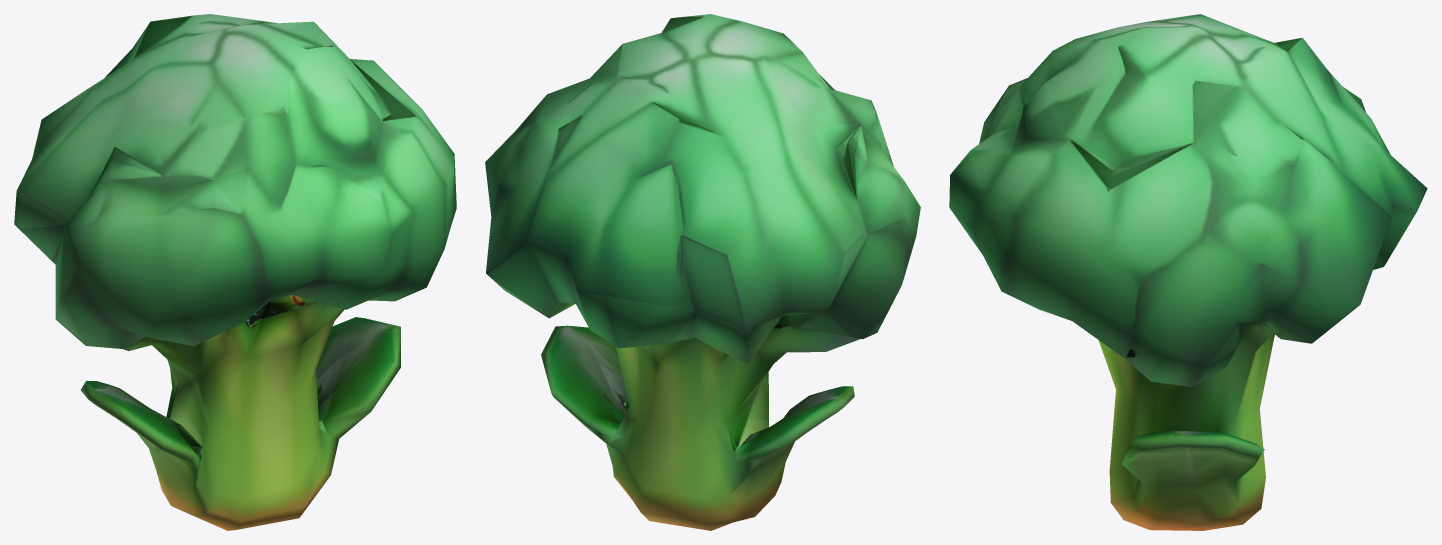
Rendered from image_png_1121132138_texture.fbx.
3 renders of one model, left to right at view 1: azimuth 30°, elevation 25°; view 2: azimuth 150°, elevation 25°; view 3: azimuth 270°, elevation 25°, orthographic. The views are drawn at different scales.
Parts seen in each view (by area): view 1: Mesh1.0; view 2: Mesh1.0; view 3: Mesh1.0.
Boxes of the visible parts, box(x1,y1,x2,y2) form: Mesh1.0: box(14, 14, 456, 530); Mesh1.0: box(485, 14, 920, 530); Mesh1.0: box(949, 14, 1427, 530).
Bounding box in the file's own units: 160 × 190 × 166.
1 material, 1 textured.
